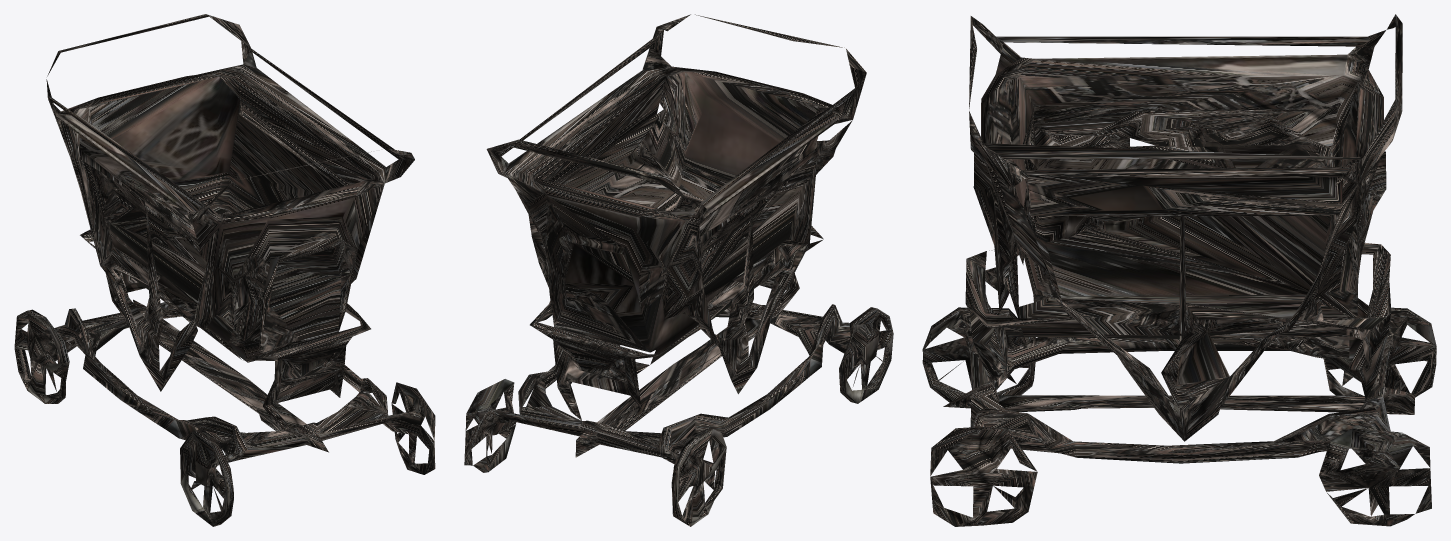
Rendered from cart.glb.
3 views of the same model, side by side, from view 1: azimuth 30°, elevation 25°; view 2: azimuth 150°, elevation 25°; view 3: azimuth 270°, elevation 25° (orthographic). The views are drawn at different scales.
Parts seen in each view (by area): view 1: cart; view 2: cart; view 3: cart.
Part boxes in pixels (x1=…): cart: x1=14, y1=14, x2=435, y2=526; cart: x1=464, y1=14, x2=893, y2=526; cart: x1=922, y1=14, x2=1436, y2=526.
Size of the model in its own units: 0.615 by 0.8764 by 1.
Materials: 1 (1 with a texture image).
